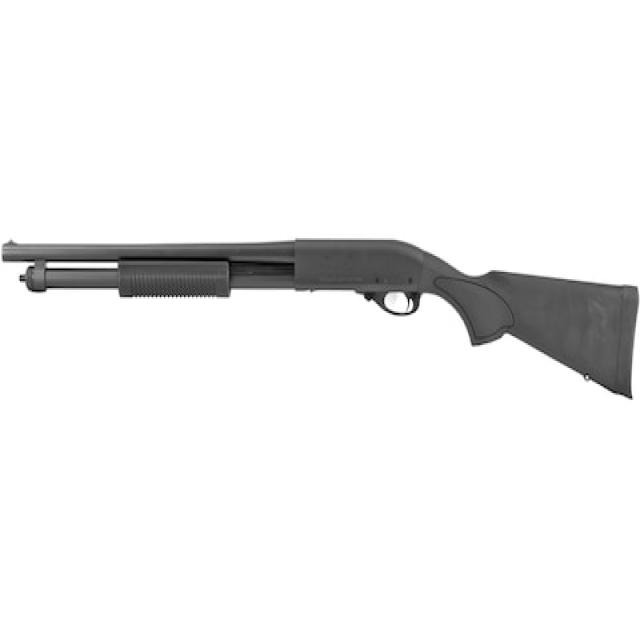ShotGun: (0, 240, 640, 396)
